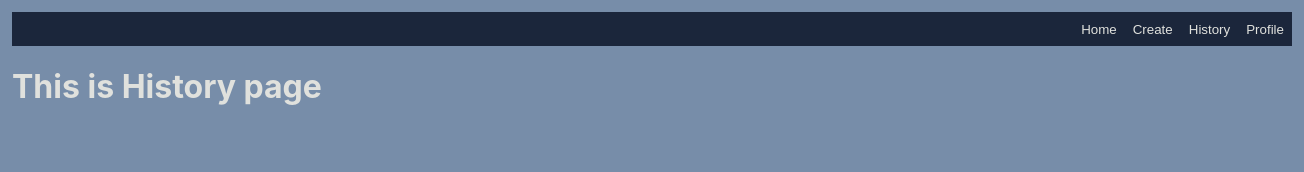
it: Navigate to Profile screen
The width and height of the screenshot is (1304, 172).
Click the button "Profile" at (1265, 29), box 1240,14 -> 1290,44
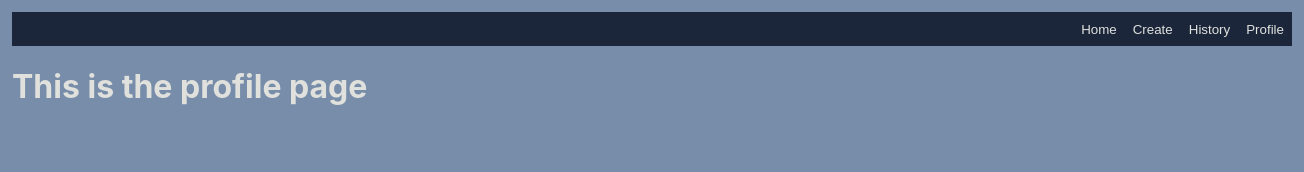
Expected: the heading "This is the profile page" is shown, 12,67 -> 367,106
